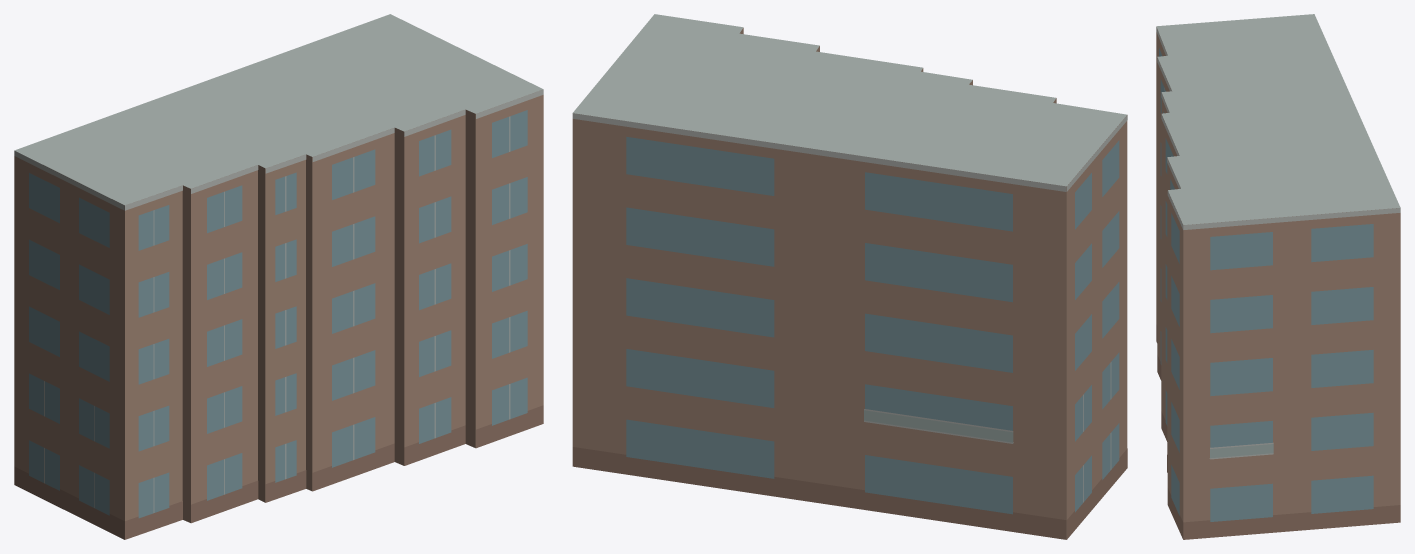
File: survey-upis-32604568.glb
3 renders of one model, left to right at view 1: azimuth 30°, elevation 25°; view 2: azimuth 150°, elevation 25°; view 3: azimuth 270°, elevation 25°, orthographic. The views are drawn at different scales.
Visible parts, largest first — view 1: survey-upis-32604568.tmp; view 2: survey-upis-32604568.tmp; view 3: survey-upis-32604568.tmp.
Part boxes in pixels (bbox=[...]): survey-upis-32604568.tmp: bbox=[14, 14, 543, 539]; survey-upis-32604568.tmp: bbox=[572, 14, 1127, 539]; survey-upis-32604568.tmp: bbox=[1156, 14, 1400, 539].
Bounding box in the file's own units: 21.95 × 15.25 × 10.74.
